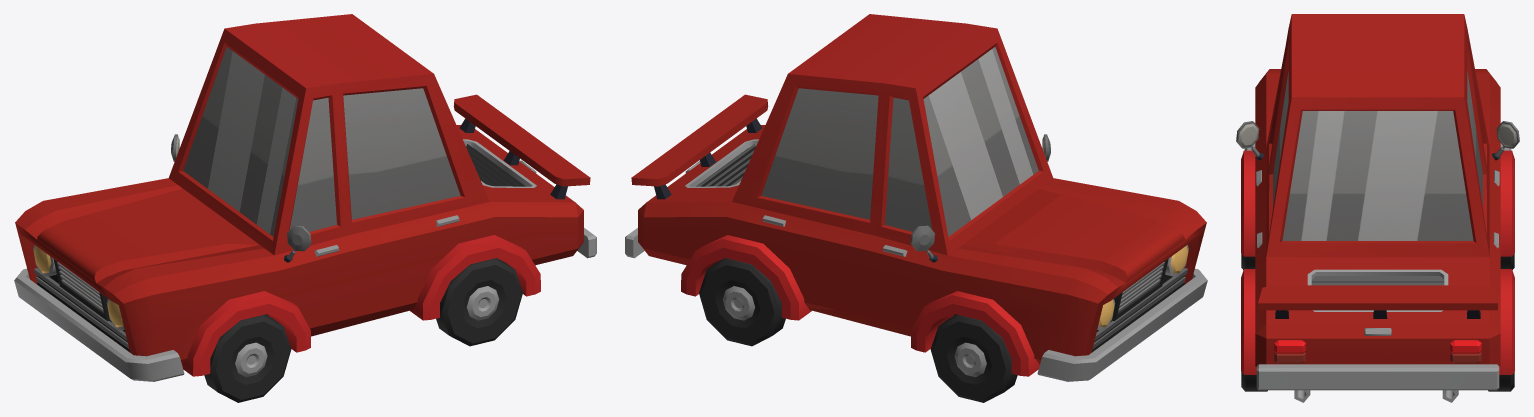
The model's file is Car_6_D.gltf.
3 renders of one model, left to right at view 1: azimuth 30°, elevation 25°; view 2: azimuth 150°, elevation 25°; view 3: azimuth 270°, elevation 25°, orthographic. The views are drawn at different scales.
Visible parts, largest first — view 1: Car_6_D, RL, FL; view 2: Car_6_D, RR, FR; view 3: Car_6_D, RL, RR.
Boxes of the visible parts, x1=… form: Car_6_D: x1=14, y1=14, x2=596, y2=381; RL: x1=436, y1=258, x2=522, y2=346; FL: x1=204, y1=314, x2=291, y2=402; Car_6_D: x1=625, y1=14, x2=1207, y2=381; RR: x1=699, y1=258, x2=785, y2=346; FR: x1=930, y1=314, x2=1017, y2=402; Car_6_D: x1=1236, y1=14, x2=1519, y2=402; RL: x1=1241, y1=372, x2=1267, y2=391; RR: x1=1488, y1=372, x2=1514, y2=391.
Size of the model in its own units: 3.1 by 1.72 by 1.51.
4 materials, 4 textured.
